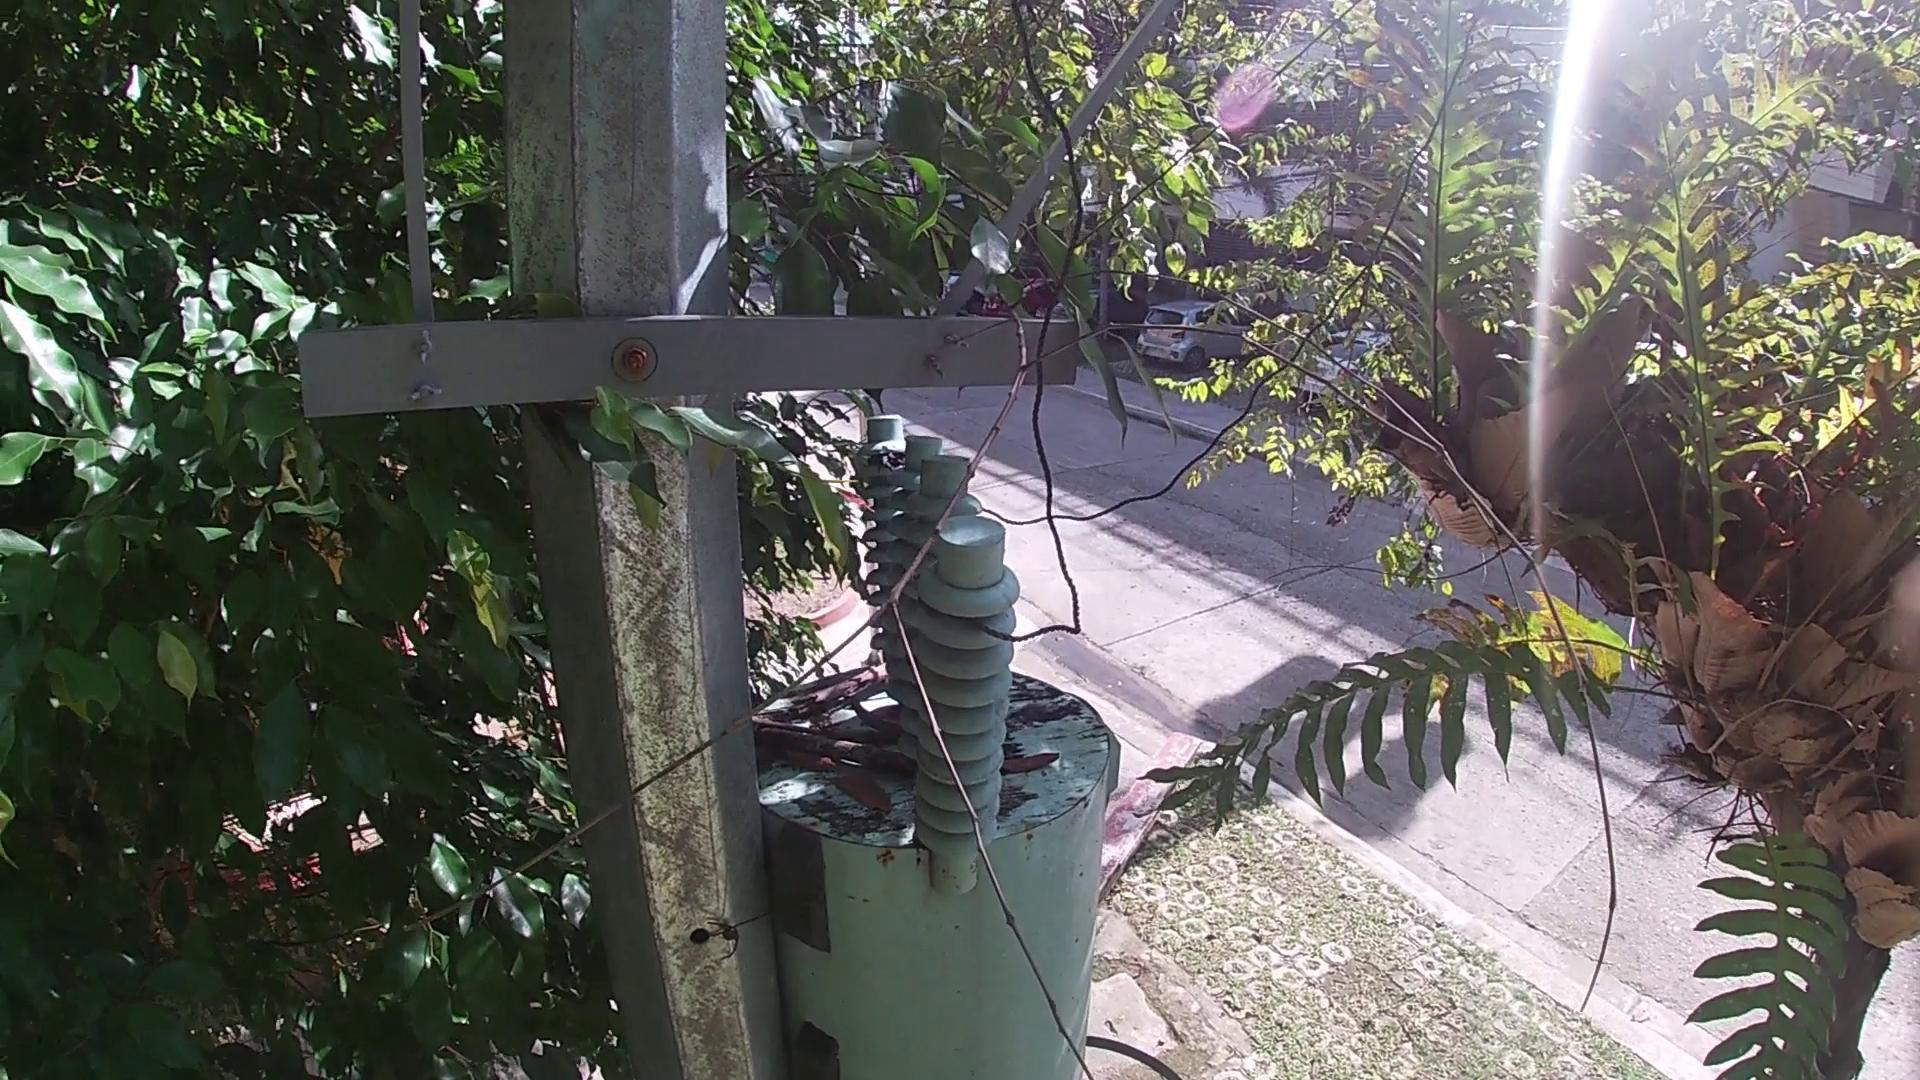leaf: (822, 769, 895, 818), (998, 748, 1069, 781), (782, 745, 839, 775)
tree branch: (400, 258, 1636, 1077), (752, 719, 914, 781), (786, 657, 890, 731)
